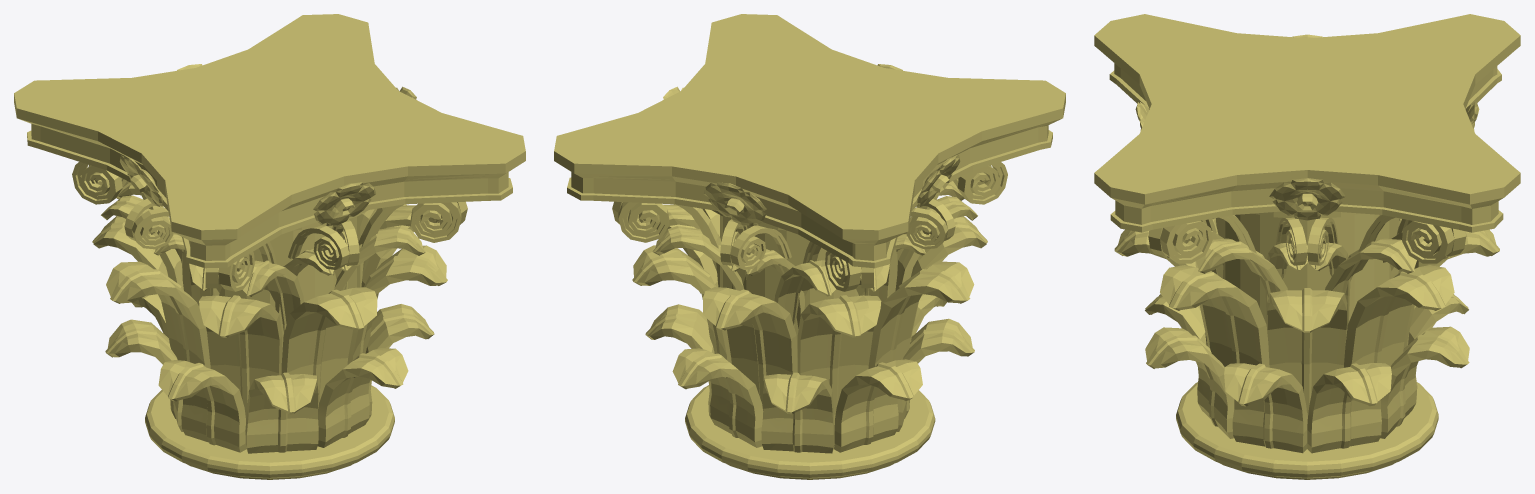
The model's file is gold_225.fbx.
The picture shows the model from 3 angles, left to right: view 1: azimuth 30°, elevation 25°; view 2: azimuth 150°, elevation 25°; view 3: azimuth 270°, elevation 25°; orthographic projection. The views are drawn at different scales.
Visible parts, largest first — view 1: gold_225; view 2: gold_225; view 3: gold_225.
Part boxes in pixels (bbox=[...]): gold_225: bbox=[14, 14, 525, 479]; gold_225: bbox=[554, 14, 1065, 479]; gold_225: bbox=[1094, 14, 1520, 479].
Size of the model in its own units: 20.73 by 17.64 by 20.73.
